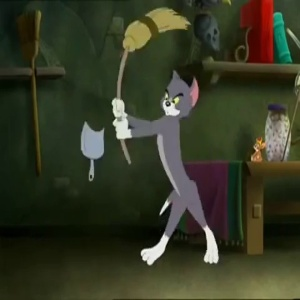Tom: (159, 70, 204, 120)
